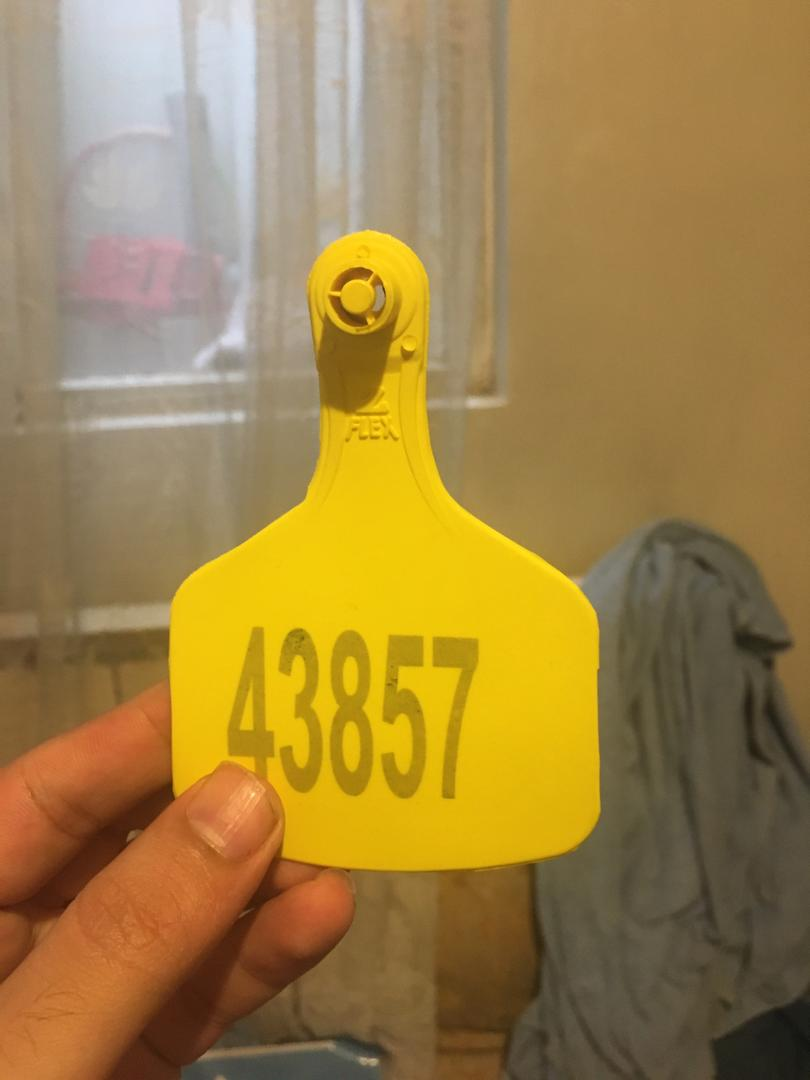digit: (223, 620, 482, 804)
